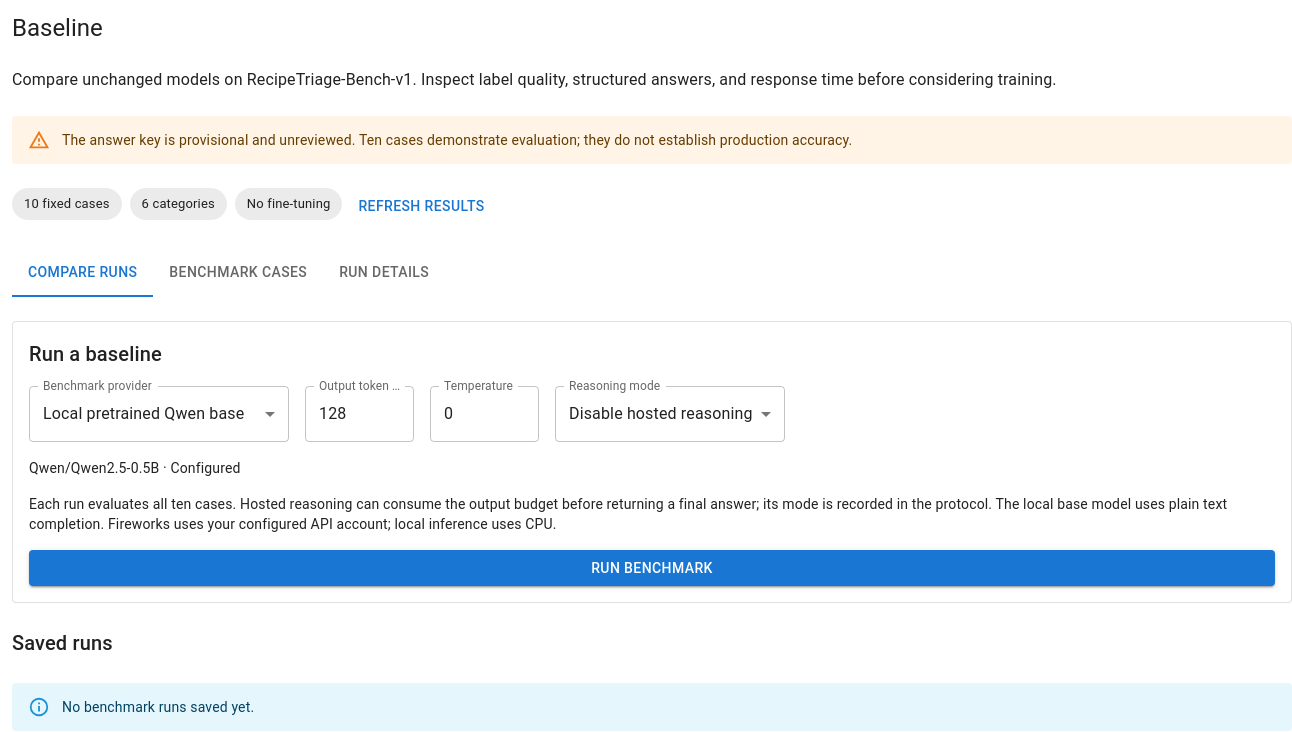
submits bounded run settings without the benchmark answer key and shows API errors
Check: the text "No benchmark runs saved yet." is shown, box [62,699,254,715]
Step 1. Click the button "Run benchmark" → point(652, 568), box [29,550,1275,586]
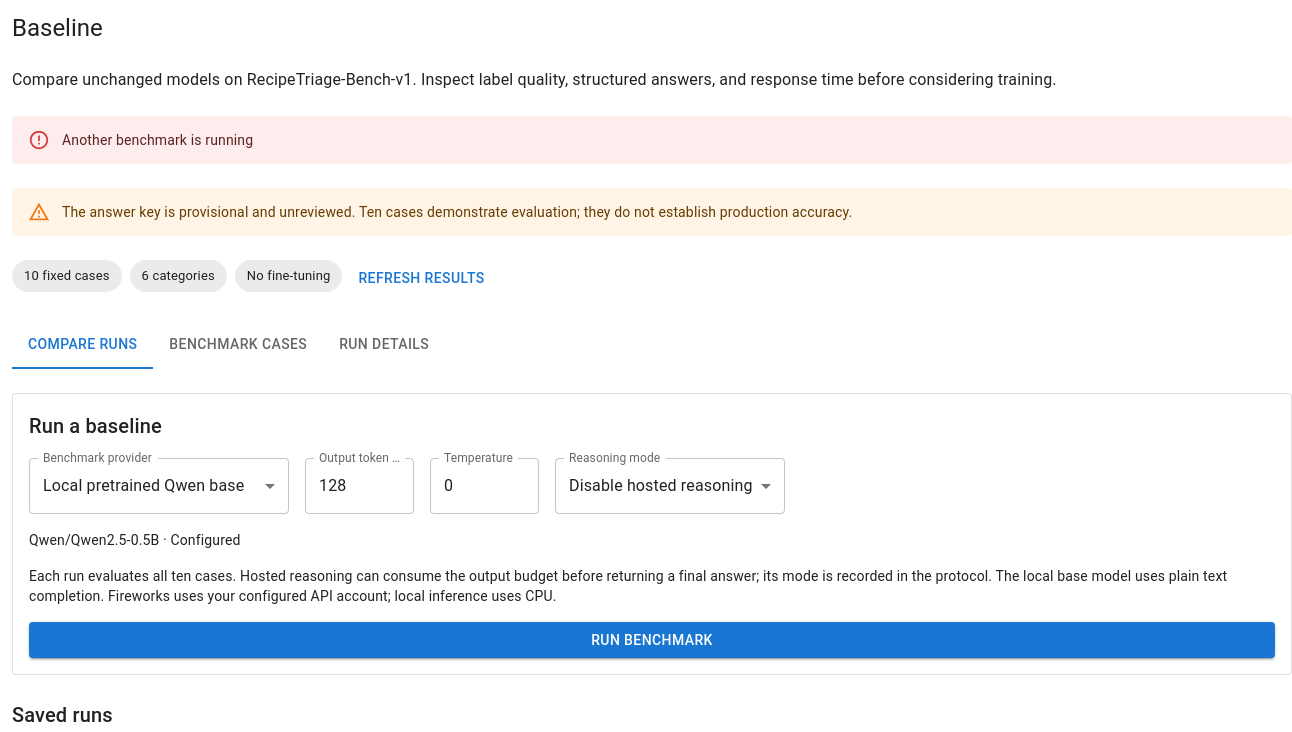
Check: the text "Another benchmark is running" is shown, box [62,132,253,148]
